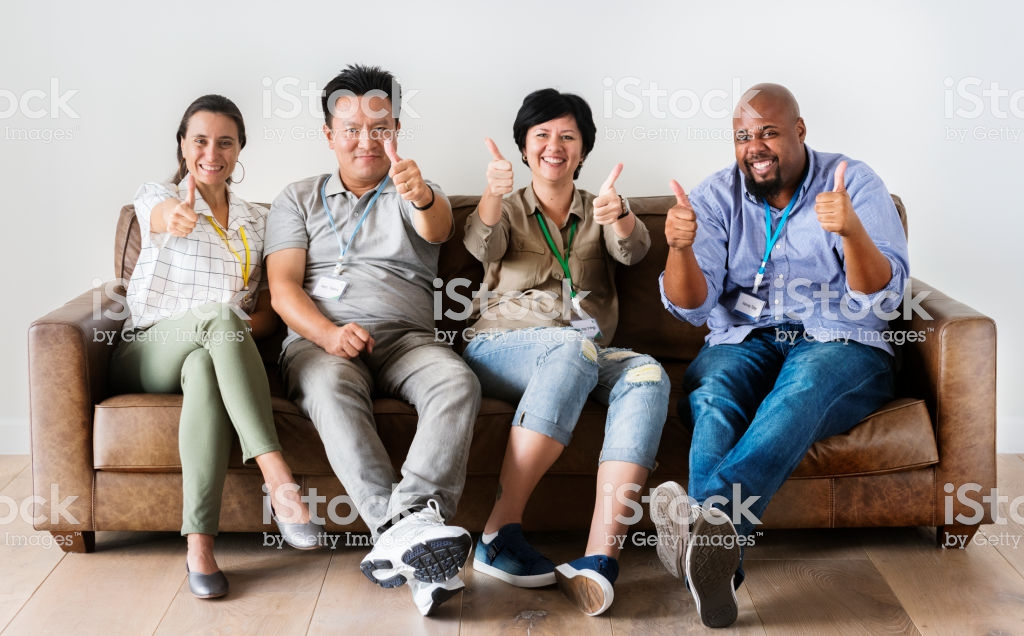thumbsup: (813, 159, 850, 234), (383, 138, 425, 202), (663, 178, 699, 250), (592, 161, 627, 226), (165, 174, 198, 239), (482, 135, 516, 197)
